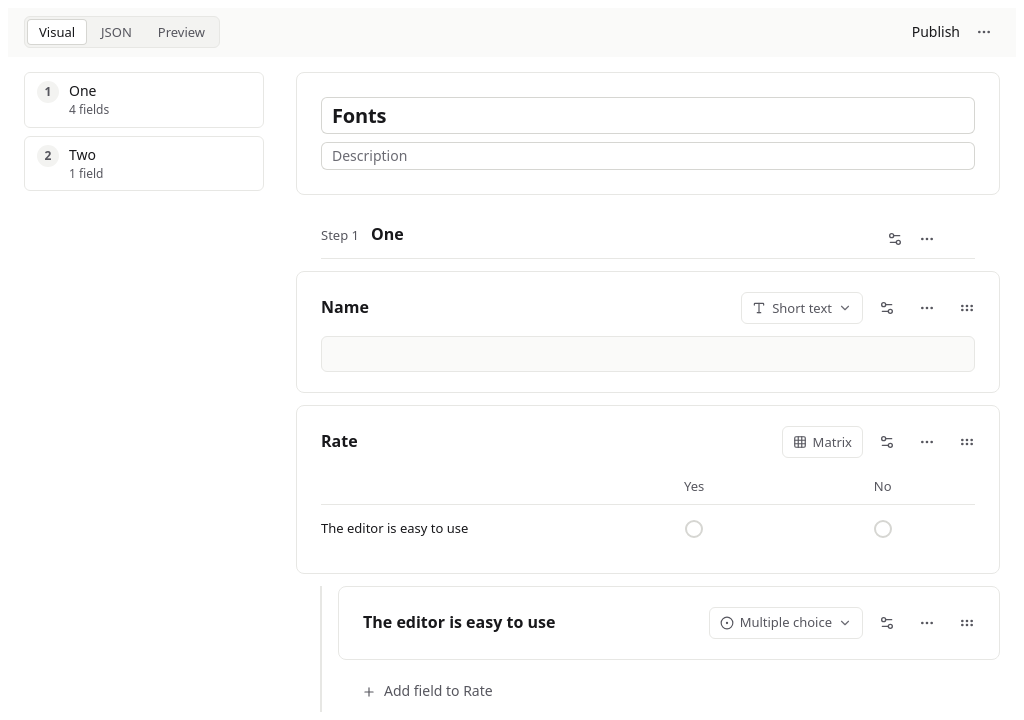
Test: overlays inherit the editor font on a serif host page › uses the editor font in the shortcuts dialog at 1280
Click the 1st text box named "Field label" at (345, 308), box [321, 296, 369, 319]
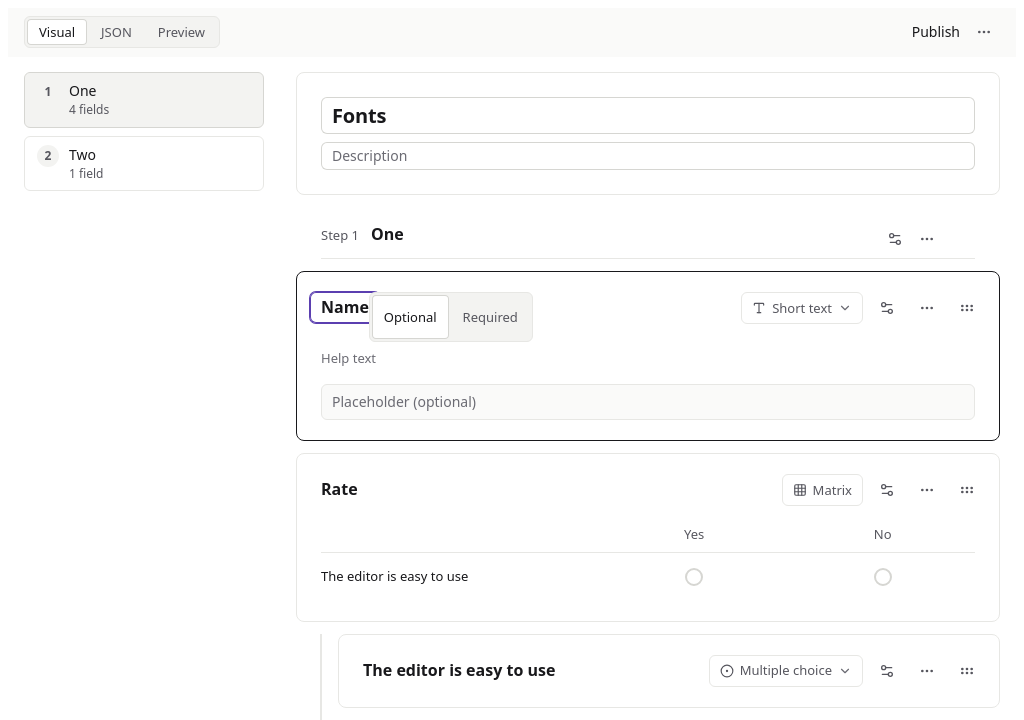
Type keys "{Escape}?"
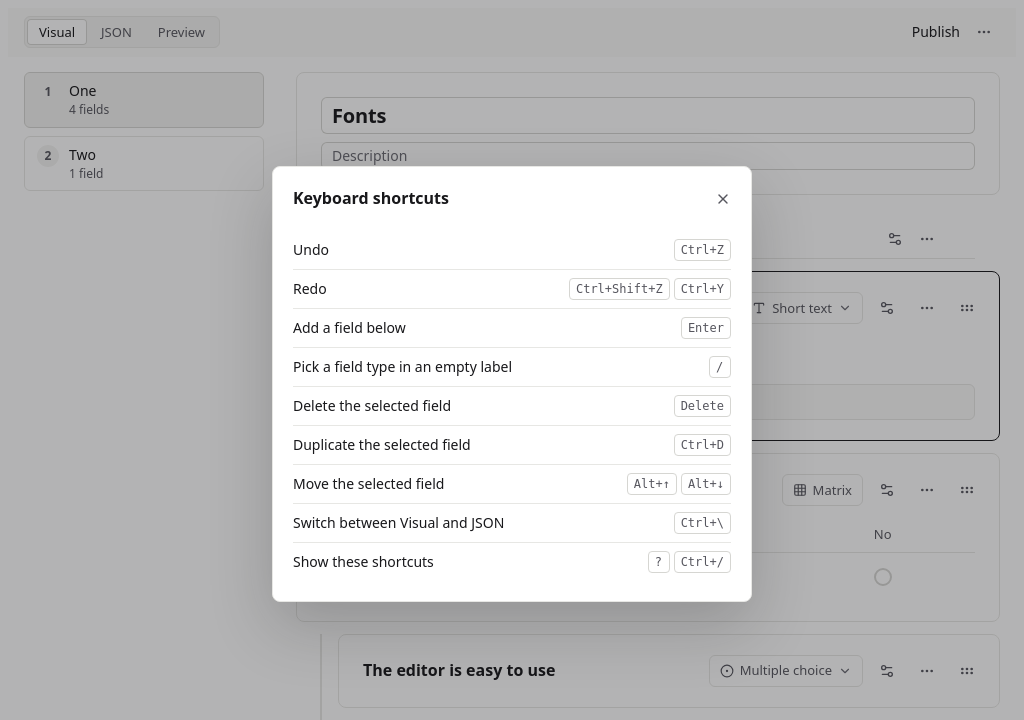
expect the dialog "Keyboard shortcuts" is shown: met, box [272, 166, 752, 602]
